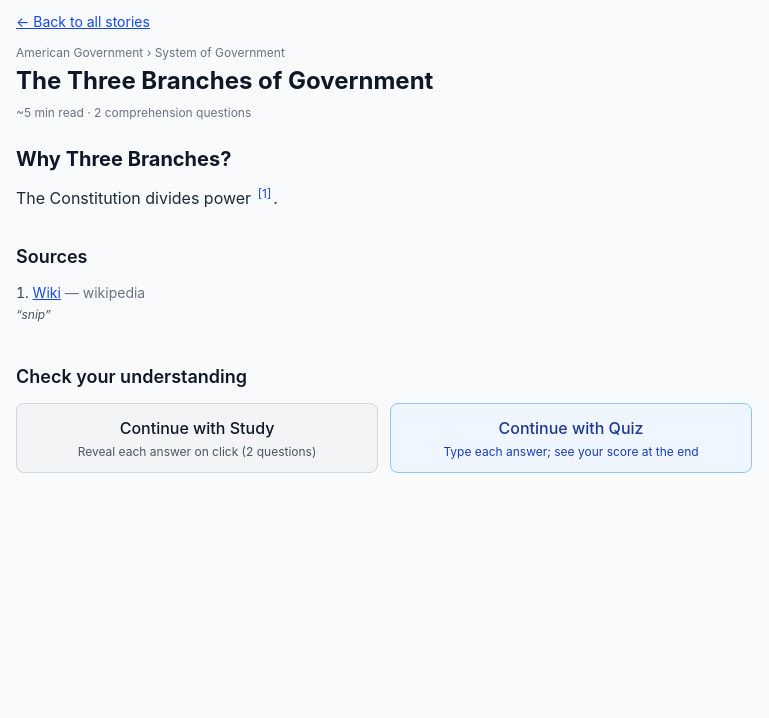
Test: StoryPage › correct typed answer renders green per-question feedback with accepted answers; Next advances
This screenshot has width=769, height=718.
Click the button with test id "continue-with-quiz" at (571, 438), box [390,403,752,473]
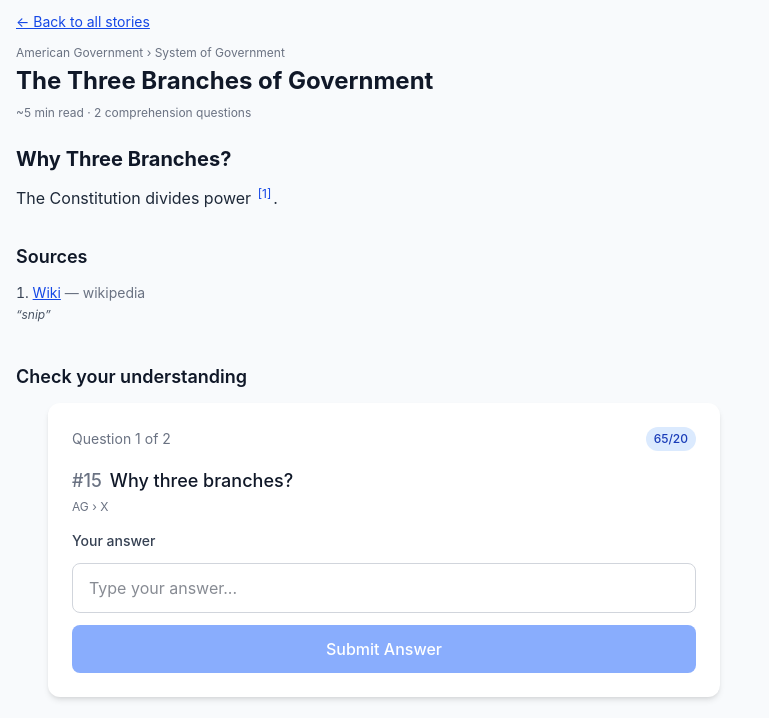
Type "so no branch is too powerful" into the field with test id "quiz-answer-input" at (384, 588), box [72,563,696,613]
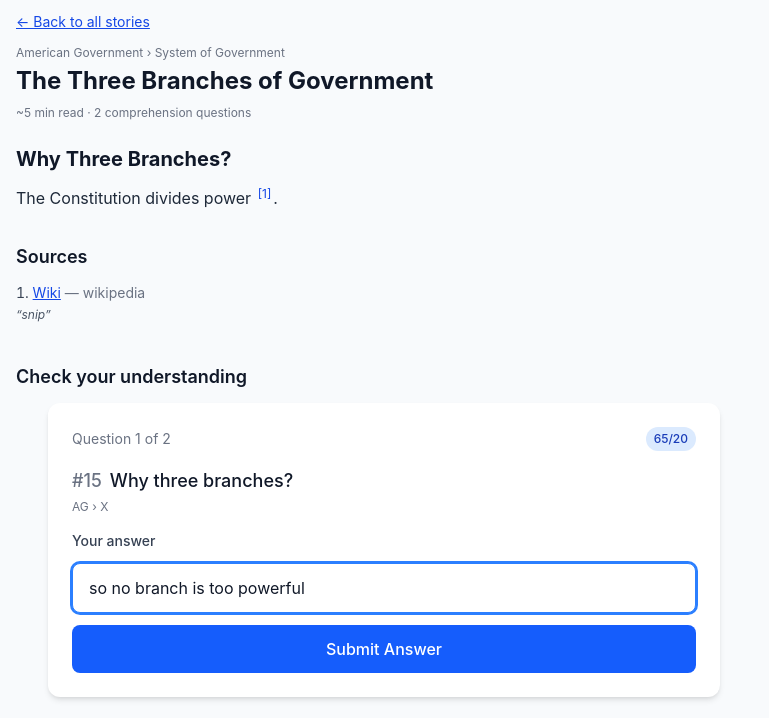
Click the button with test id "submit-answer-btn" at (384, 649), box [72,625,696,673]
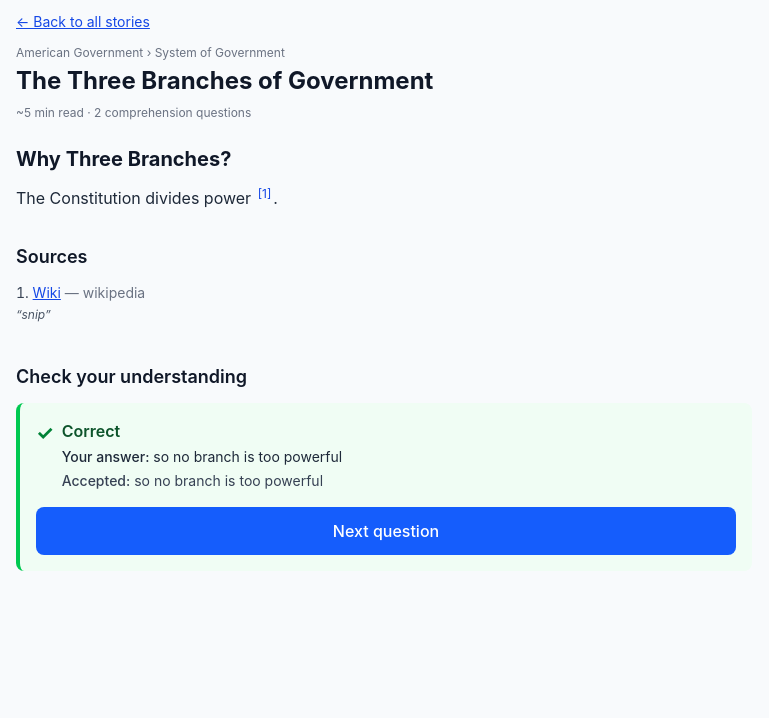
Expected: the message with test id "story-quiz-feedback" shows "Correct", [62,421,120,441]
Expected: the message with test id "story-quiz-feedback" shows "so no branch is too powerful", [153,448,342,465]
Click the button with test id "story-quiz-next-question" at (386, 531), box [36,507,736,555]
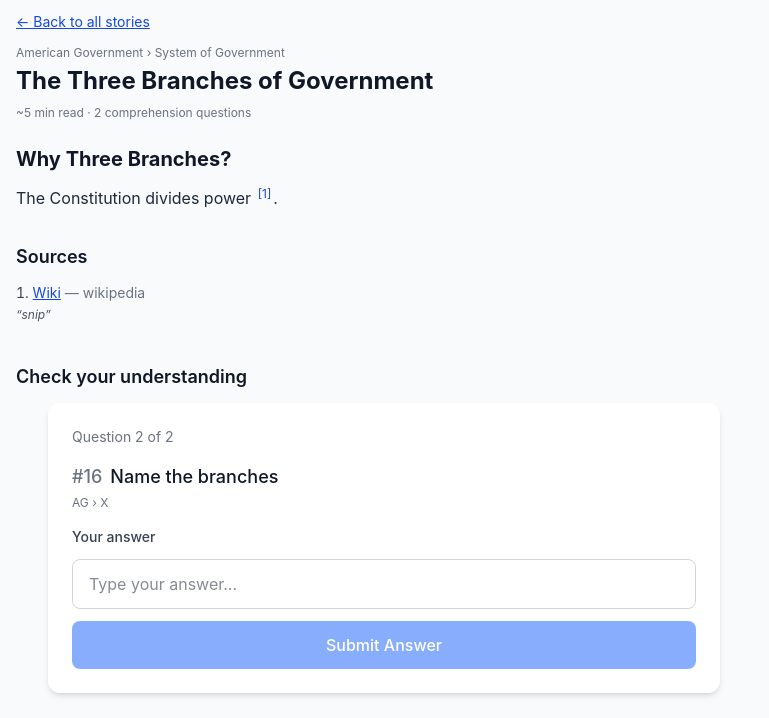
Expected: the text "Question 2 of 2" is shown, [72,427,174,447]
Expected: the message with test id "story-quiz-feedback" is gone
